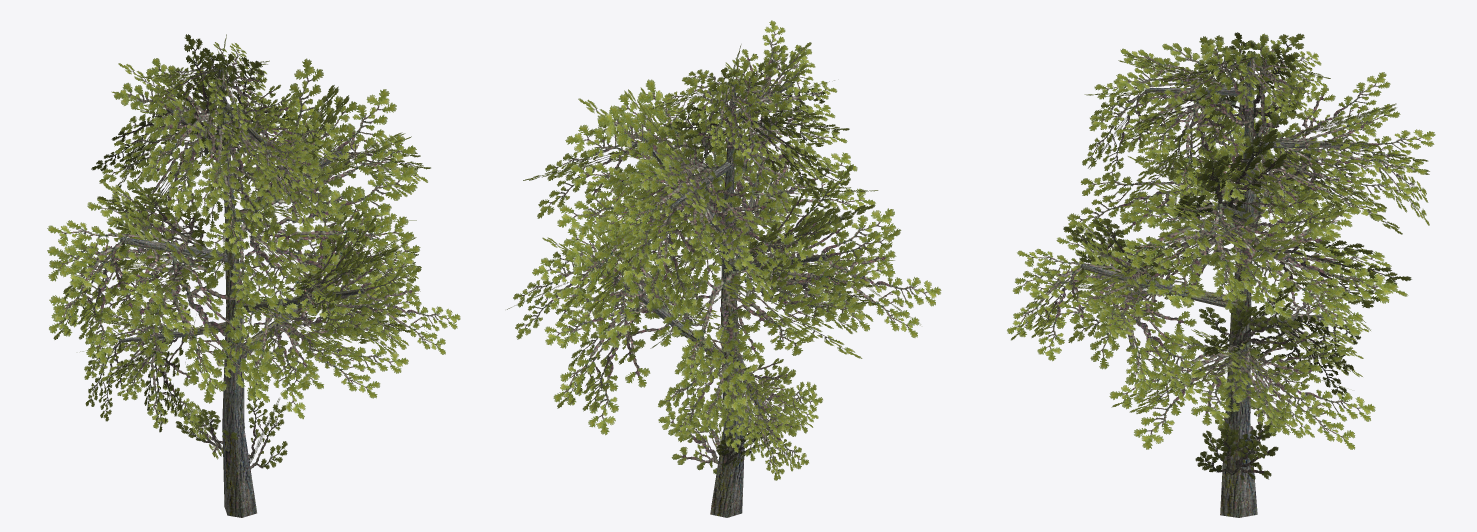
Rendered from oak_tree_a_small.glb.
3 renders of one model, left to right at view 1: azimuth 30°, elevation 25°; view 2: azimuth 150°, elevation 25°; view 3: azimuth 270°, elevation 25°, orthographic. The views are drawn at different scales.
Parts seen in each view (by area): view 1: oak_tree_a_small; view 2: oak_tree_a_small; view 3: oak_tree_a_small.
Part boxes in pixels (x1=…): oak_tree_a_small: x1=47, y1=34, x2=460, y2=517; oak_tree_a_small: x1=507, y1=20, x2=941, y2=517; oak_tree_a_small: x1=1007, y1=32, x2=1435, y2=517.
Bounding box in the file's own units: 15.19 × 15.95 × 14.53.
1 material, 1 textured.
